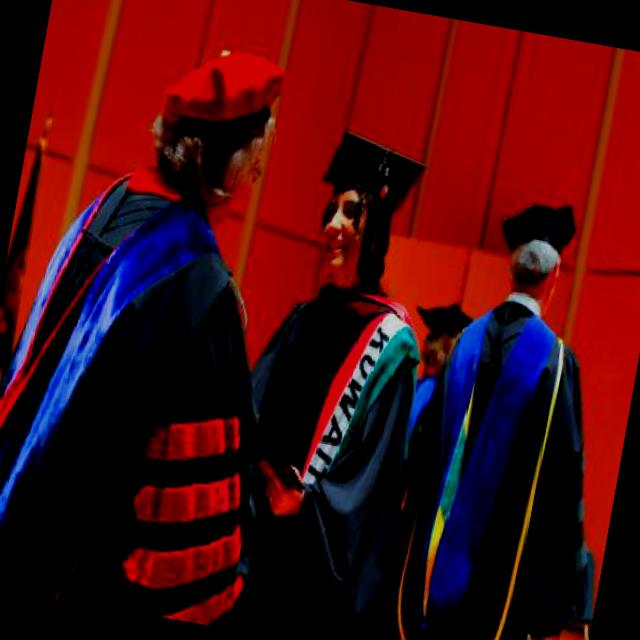Person: (0, 8, 345, 630), (216, 128, 469, 639), (376, 179, 640, 640), (386, 283, 477, 465)
